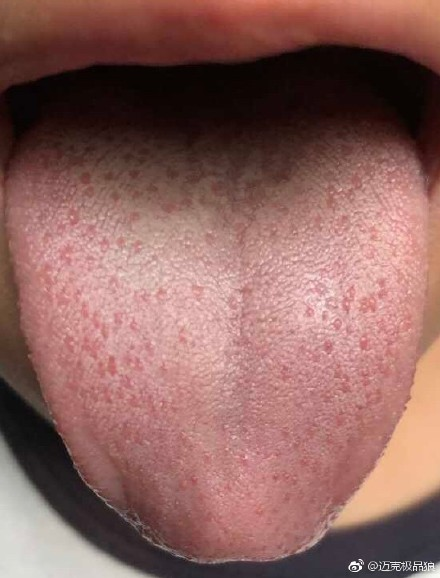baitaishe: (7, 85, 432, 565)
hongdianshe: (319, 337, 334, 354), (358, 332, 368, 352)
